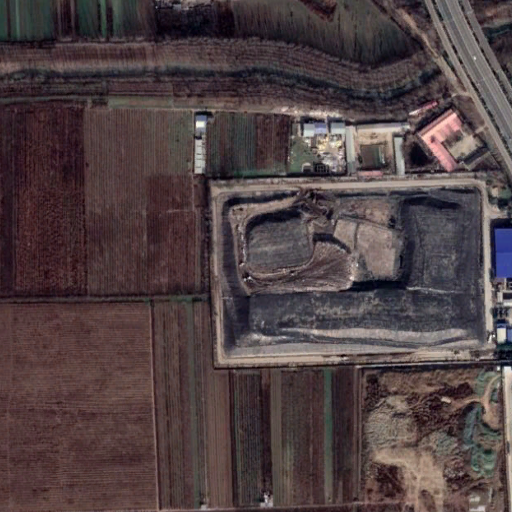lf: (201, 173, 494, 364)
